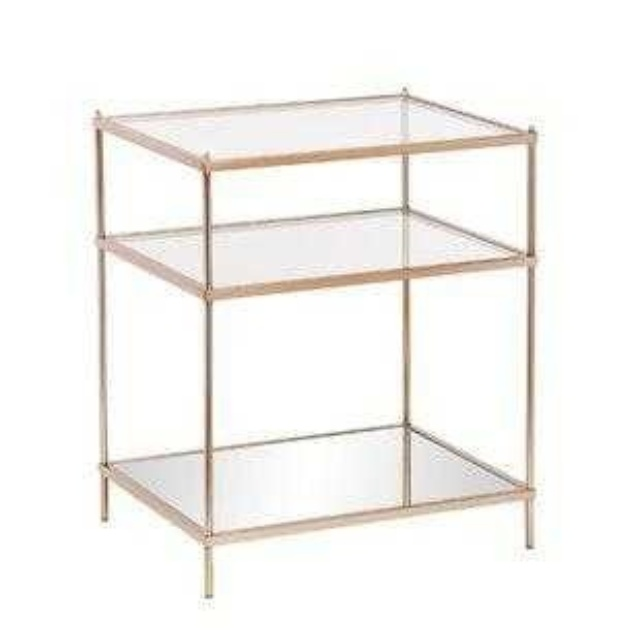obstacle: (95, 89, 537, 597)
